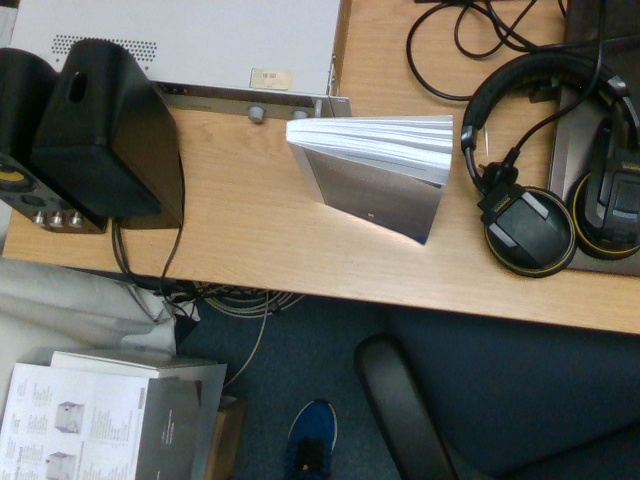book: (286, 116, 452, 246)
